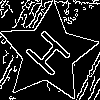H: (23, 28, 81, 86)
